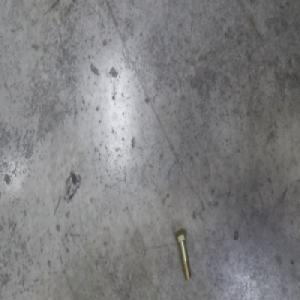Bolt: (173, 226, 191, 280)
